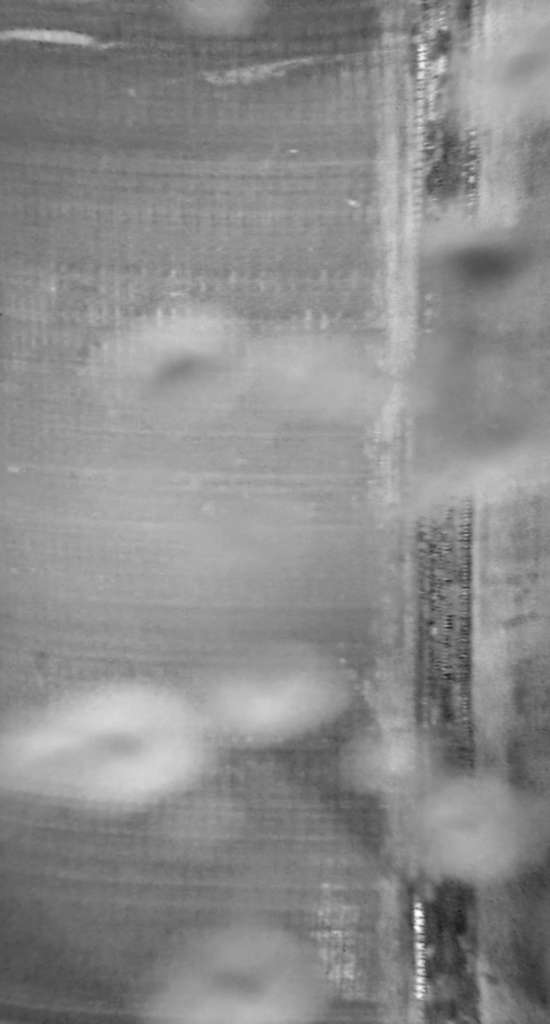splice: (397, 1, 496, 1024)
